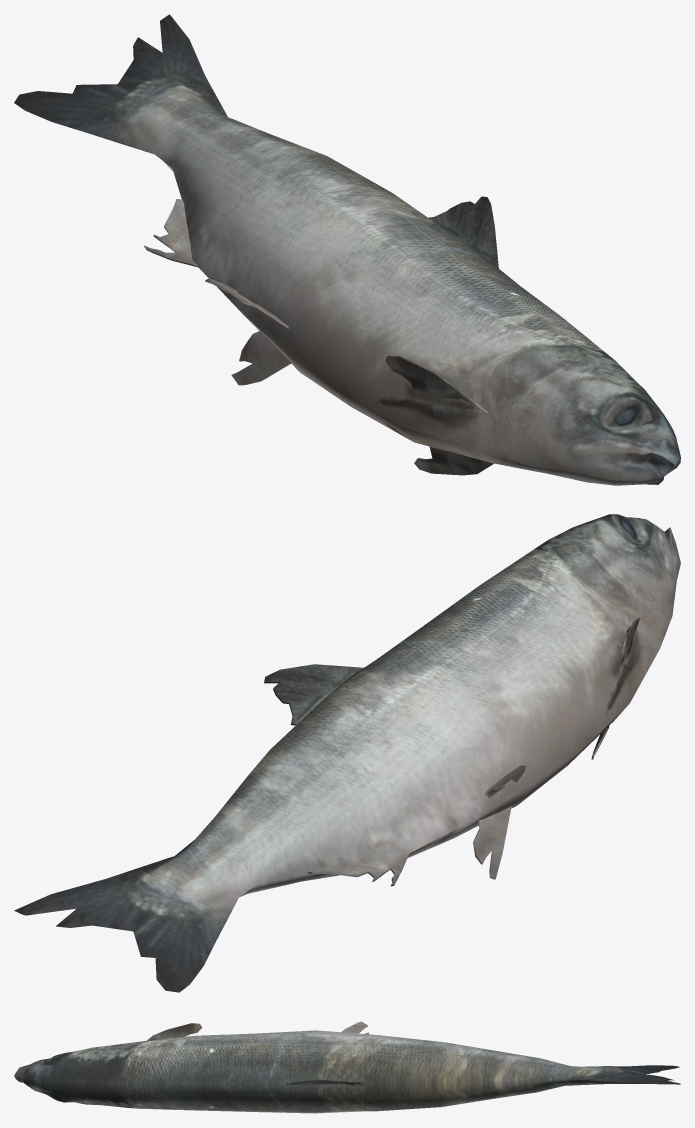
Rendered from Salmon.glb.
3 renders of one model, top to bottom at view 1: azimuth 30°, elevation 25°; view 2: azimuth 150°, elevation 25°; view 3: azimuth 270°, elevation 25°, orthographic. The views are drawn at different scales.
Parts seen in each view (by area): view 1: Salmon; view 2: Salmon; view 3: Salmon.
Part boxes in pixels (x1,y1,x2,y2): Salmon: [14, 14, 680, 485]; Salmon: [14, 514, 680, 992]; Salmon: [14, 1021, 680, 1113].
Bounding box in the file's own units: 0.6149 × 0.3396 × 2.27.
Materials: 1 (1 with a texture image).
